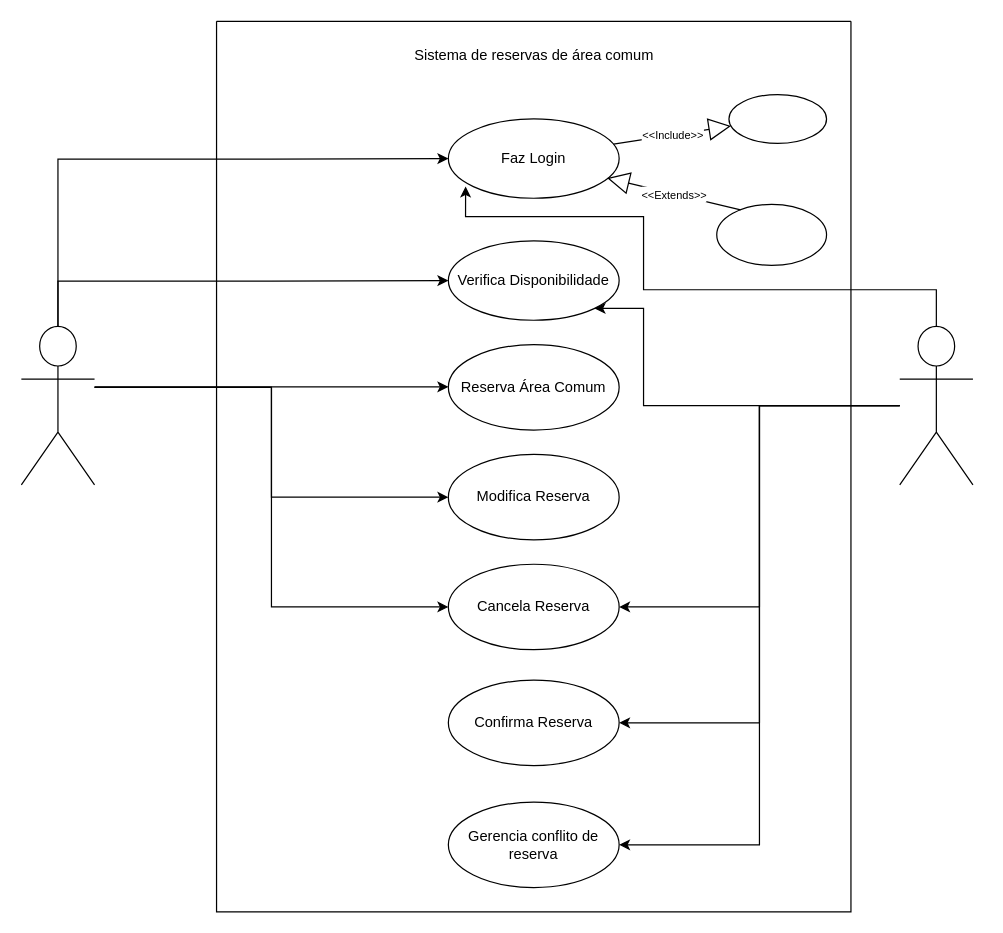
Some shapes in this 1003 by 933 pixel diagram are drawn without their labels. Here are the shapes that lost their labels. From the top down, the box of each, then its label:
(728, 93, 827, 143): Verificar senha
(716, 203, 827, 265): Exibe erro de login
(20, 325, 95, 485): Morador
(899, 325, 973, 485): Administrador
